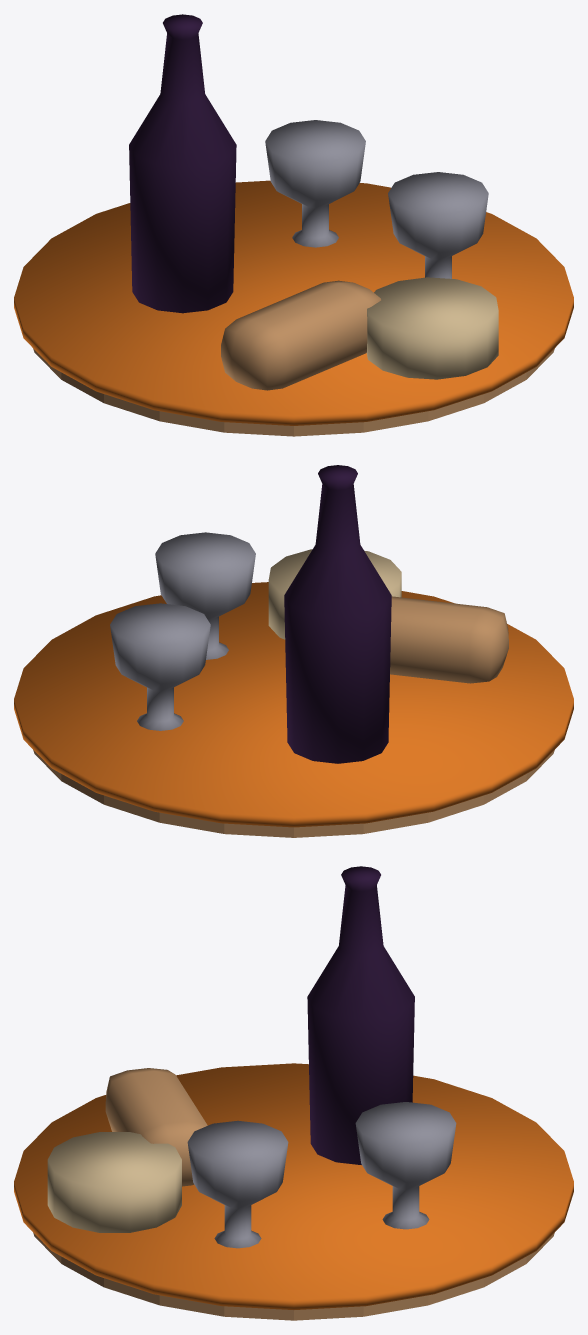
File: wine_tray.glb
3 renders of one model, top to bottom at view 1: azimuth 30°, elevation 25°; view 2: azimuth 150°, elevation 25°; view 3: azimuth 270°, elevation 25°, orthographic.
Parts seen in each view (by area): view 1: wine_tray; view 2: wine_tray; view 3: wine_tray.
Part boxes in pixels (<box>): wine_tray: <box>14,14,573,436</box>; wine_tray: <box>14,465,573,837</box>; wine_tray: <box>14,866,573,1320</box>.
Size of the model in its own units: 0.5 by 0.29 by 0.5.
